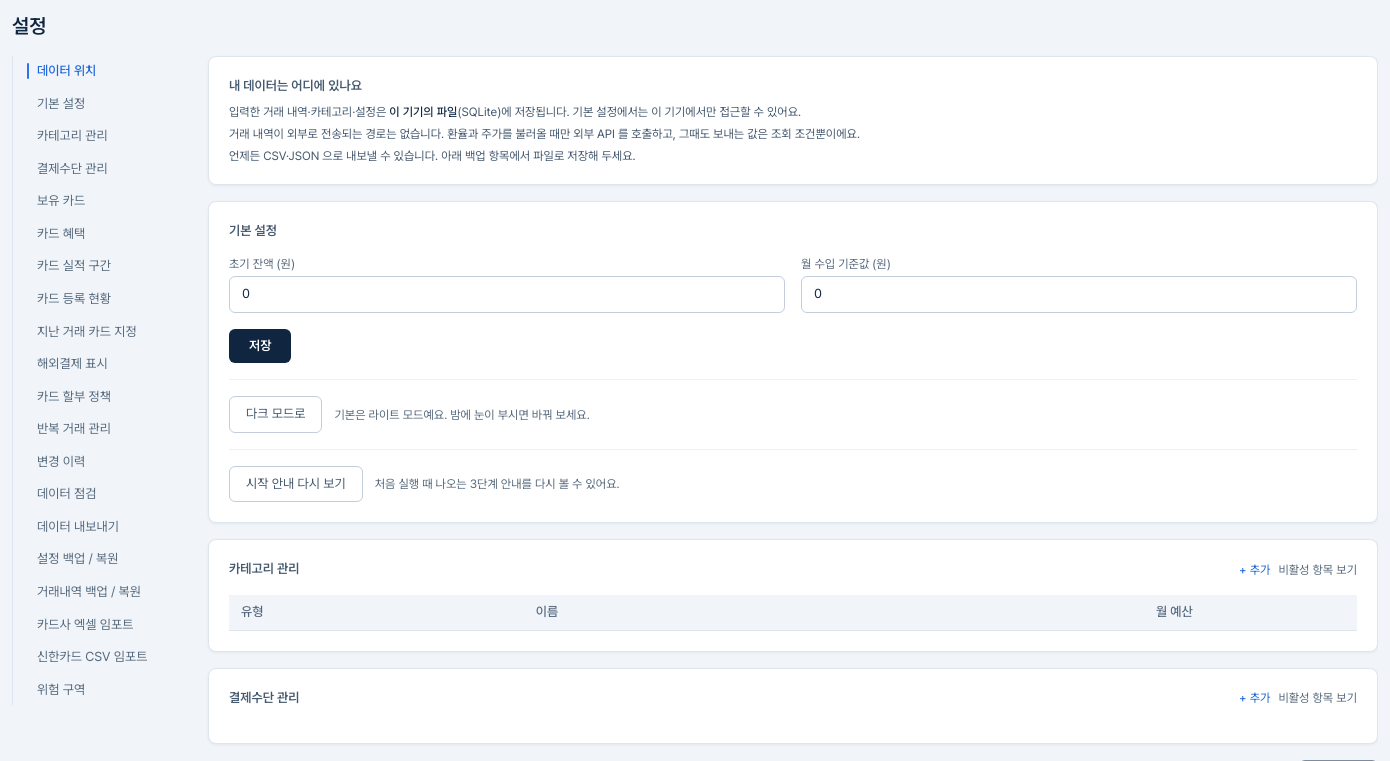
Test: 초기 잔액·월 수입 › 저장하면 저장됐다고 알린다
expect the text "저장됨" is not shown: met
Click the button "저장".
click(260, 346)  # box [229,329,292,363]
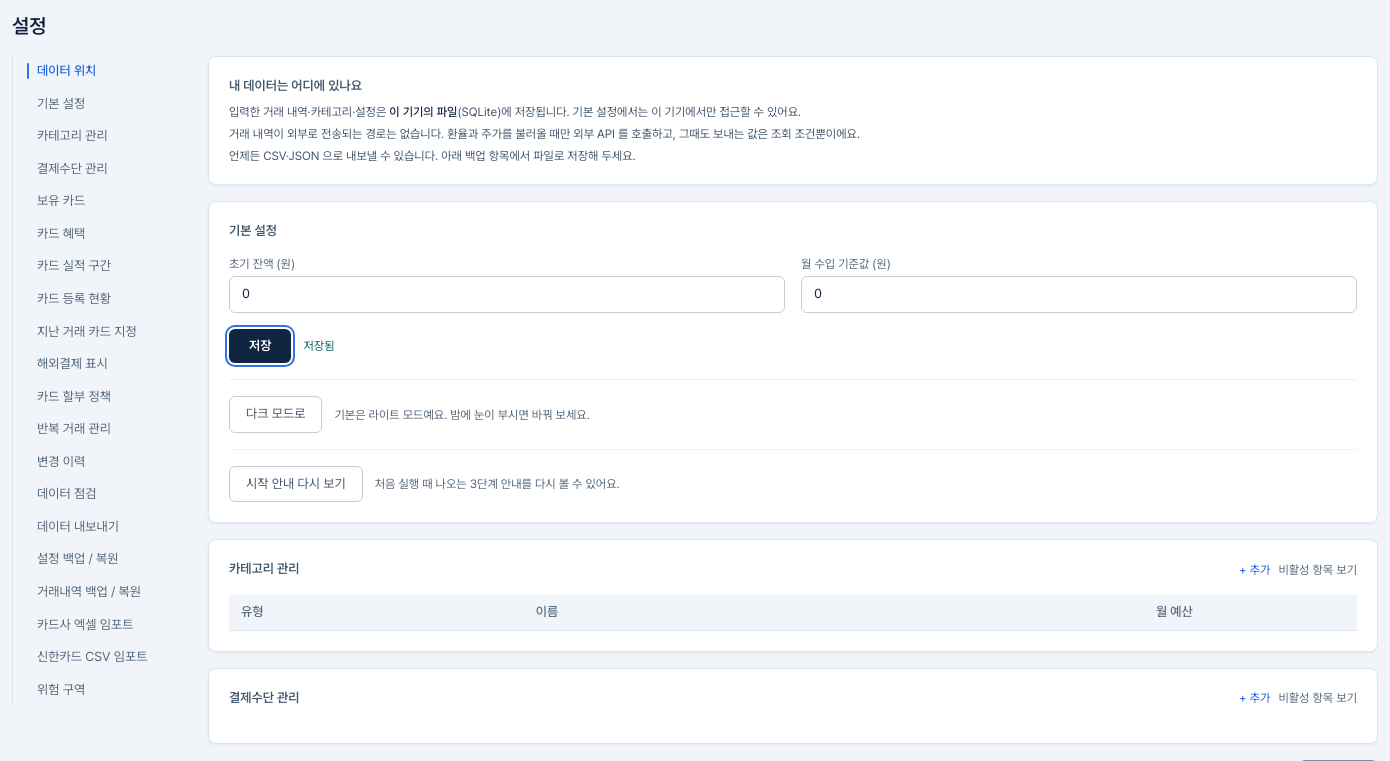
expect the text "저장됨" is shown: met, box [304,338,335,354]
